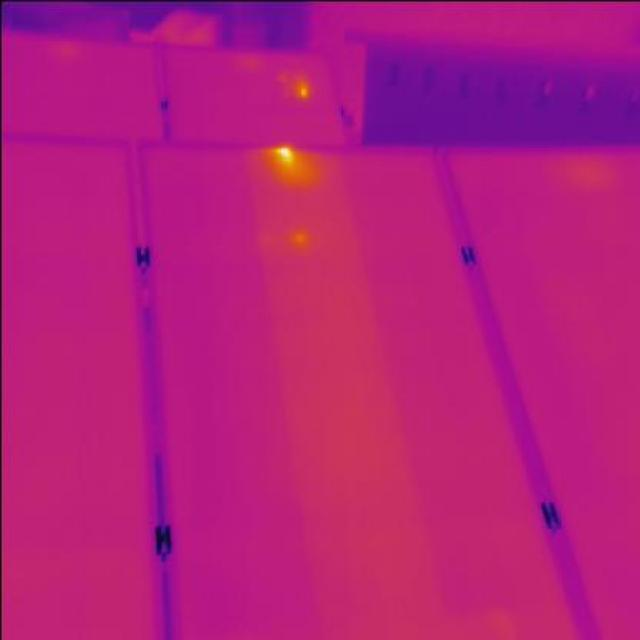hotspot: (278, 64, 318, 101), (270, 138, 301, 174)
